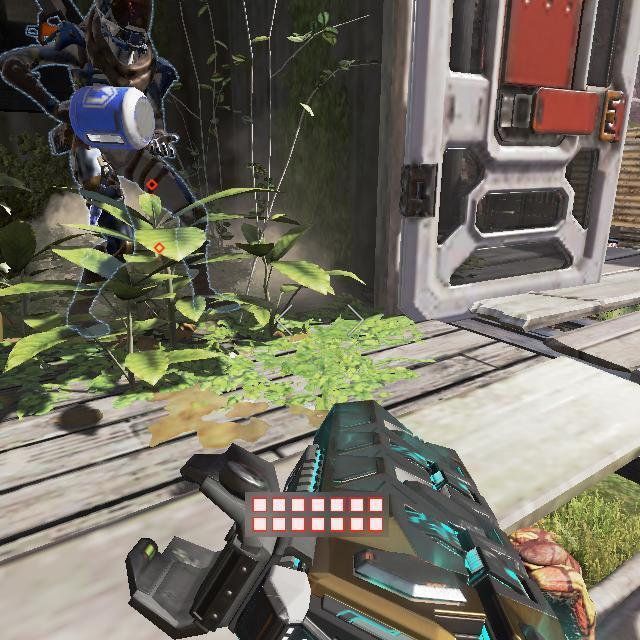avatar: (54, 0, 185, 344)
